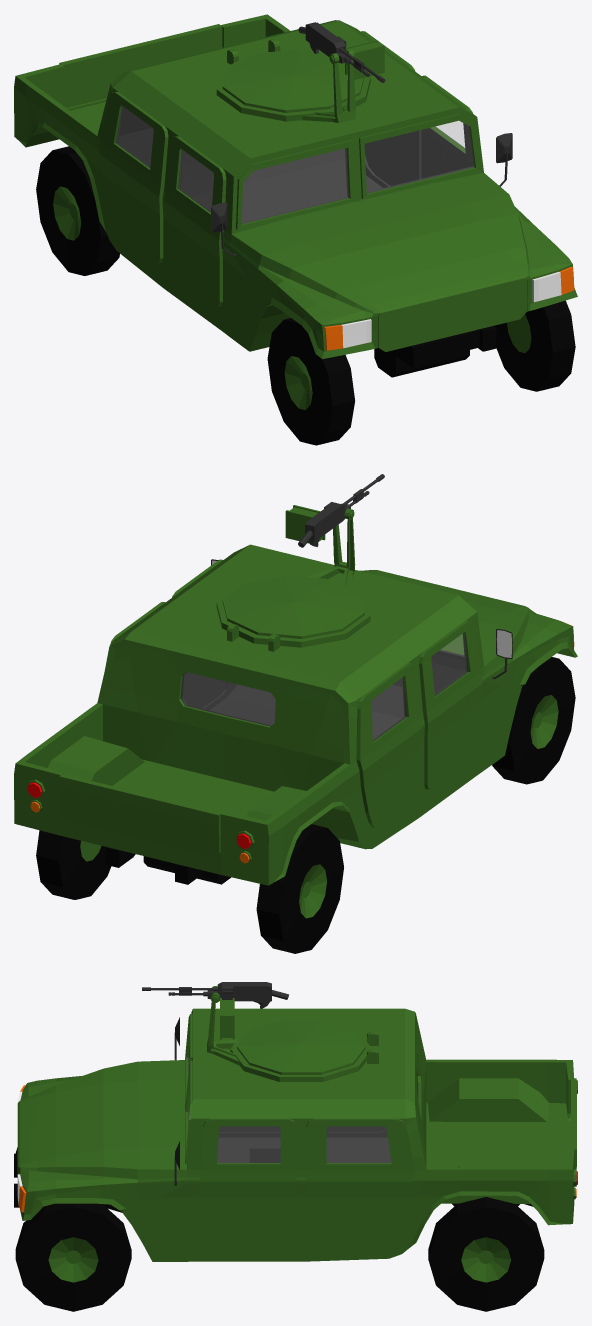
The picture shows the model from 3 angles, top to bottom: view 1: azimuth 30°, elevation 25°; view 2: azimuth 150°, elevation 25°; view 3: azimuth 270°, elevation 25°; orthographic projection. The views are drawn at different scales.
Parts seen in each view (by area): view 1: Plane.027, Plane.029, Plane.032, Plane.028, Plane.035, Cylinder.014, Cylinder.013, Plane.031, Cylinder.012, Plane.030, Plane.033, Cube.006 (+2 smaller); view 2: Plane.027, Plane.028, Plane.035, Cylinder.013, Plane.030, Plane.031, Cylinder.014, Plane.032, Cylinder.015, Plane.029, Cube.006, Plane.033 (+1 smaller); view 3: Plane.027, Plane.034, Plane.033, Cylinder.015, Cylinder.012, Plane.031, Plane.032, Cube.006, Cube.007, Plane.030, Plane.035.
Boxes of the visible parts, <box> form: Plane.027: <box>14,14,577,377</box>; Plane.029: <box>242,121,473,222</box>; Plane.032: <box>115,83,474,223</box>; Plane.028: <box>99,91,168,263</box>; Plane.035: <box>164,136,226,307</box>; Cylinder.014: <box>267,318,354,445</box>; Cylinder.013: <box>36,146,119,275</box>; Plane.031: <box>222,49,364,112</box>; Cylinder.012: <box>493,300,575,391</box>; Plane.030: <box>59,24,222,107</box>; Plane.033: <box>421,75,472,178</box>; Cube.006: <box>298,22,385,82</box>; Plane.027: <box>14,544,577,885</box>; Plane.028: <box>356,662,422,827</box>; Plane.035: <box>419,620,482,789</box>; Cylinder.013: <box>256,824,343,953</box>; Plane.030: <box>59,774,221,856</box>; Plane.031: <box>222,575,364,638</box>; Cylinder.014: <box>492,657,575,784</box>; Plane.032: <box>115,640,465,739</box>; Cylinder.015: <box>36,830,111,899</box>; Plane.029: <box>182,635,463,724</box>; Cube.006: <box>285,474,384,547</box>; Plane.033: <box>172,559,225,708</box>; Plane.027: <box>14,1008,577,1261</box>; Plane.034: <box>306,1118,414,1243</box>; Plane.033: <box>200,1118,296,1243</box>; Cylinder.015: <box>428,1197,544,1311</box>; Cylinder.012: <box>15,1203,131,1311</box>; Plane.031: <box>237,1020,365,1074</box>; Plane.032: <box>188,1046,418,1162</box>; Cube.006: <box>142,982,288,1039</box>; Cube.007: <box>207,986,239,1065</box>; Plane.030: <box>571,1080,576,1169</box>; Plane.035: <box>219,1126,280,1132</box>.
Bounding box in the file's own units: 241 × 236 × 438.
